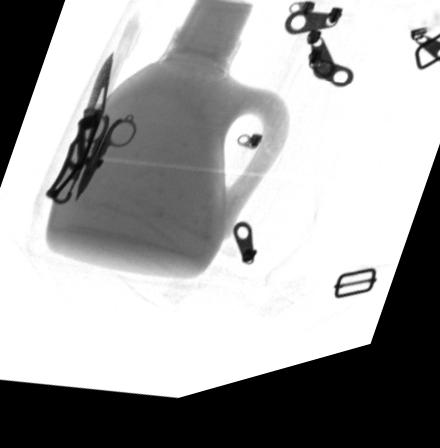Knife: (43, 54, 112, 208)
Scissors: (73, 115, 138, 204)
